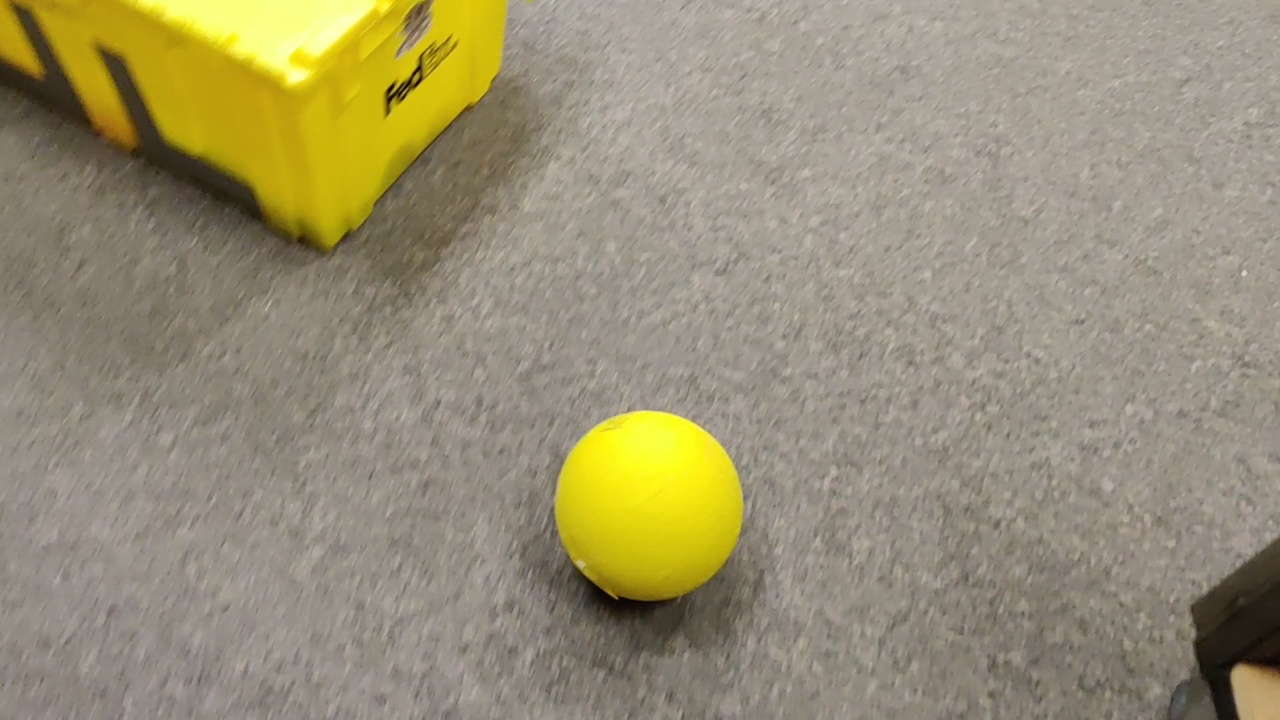Ball: (554, 409, 745, 598)
